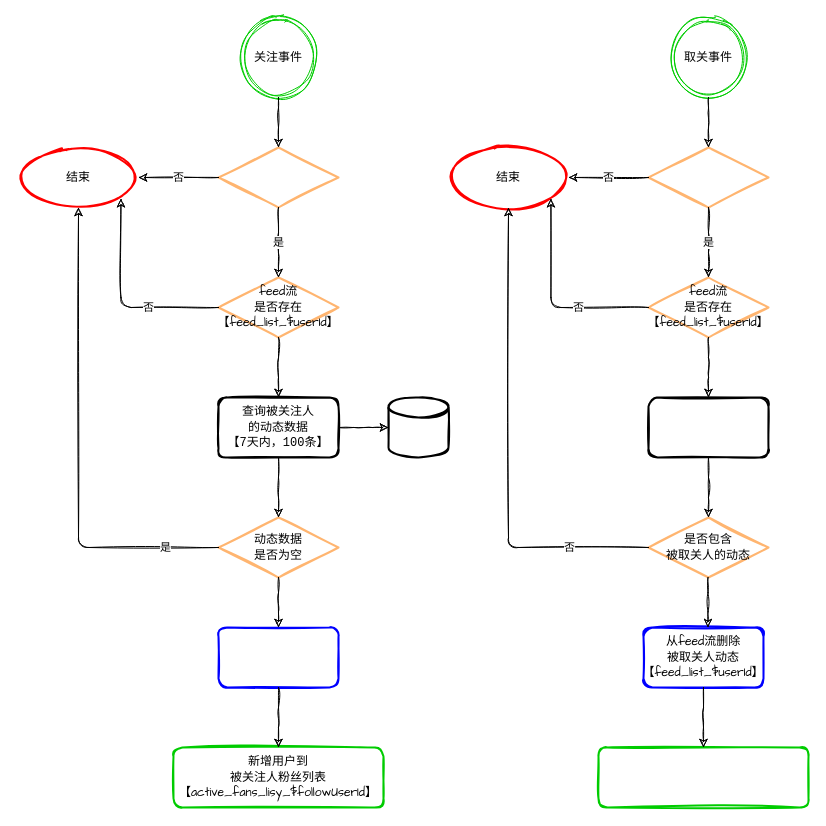
Image size: 826x826. Some labels were removed from this diagram. The centre of each missing label's shape, as x and y in pixels:
"database" belongs at pixel 418 427.
"关注人 是否活跃用户 【active_user_$userId】" belongs at pixel 278 177.
"取关人 是否活跃用户 【active_user_$userId】" belongs at pixel 708 177.
"添加被关注人 动态到feed流 【feed_list_$userId】" belongs at pixel 278 657.
"获取取关人 feed流所有动态" belongs at pixel 708 427.
"被取关人粉丝列表 删除用户 【active_fans_lisy_$followUserId】" belongs at pixel 703 777.
